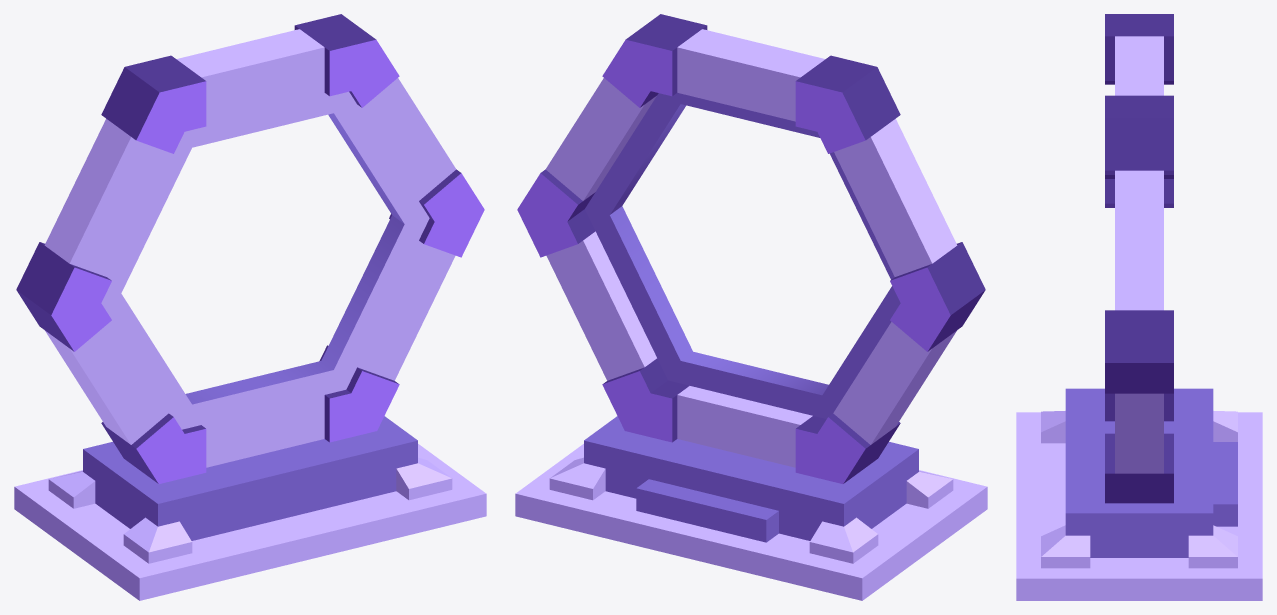
Rendered from gate-complex.t1.32f90215.glb.
3 renders of one model, left to right at view 1: azimuth 30°, elevation 25°; view 2: azimuth 150°, elevation 25°; view 3: azimuth 270°, elevation 25°, orthographic.
Size of the model in its own units: 1.33 by 1.34 by 0.6628.
